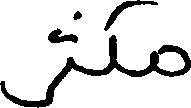X: (0, 25, 55, 107), (154, 0, 190, 81), (106, 0, 133, 81), (62, 8, 75, 83)
